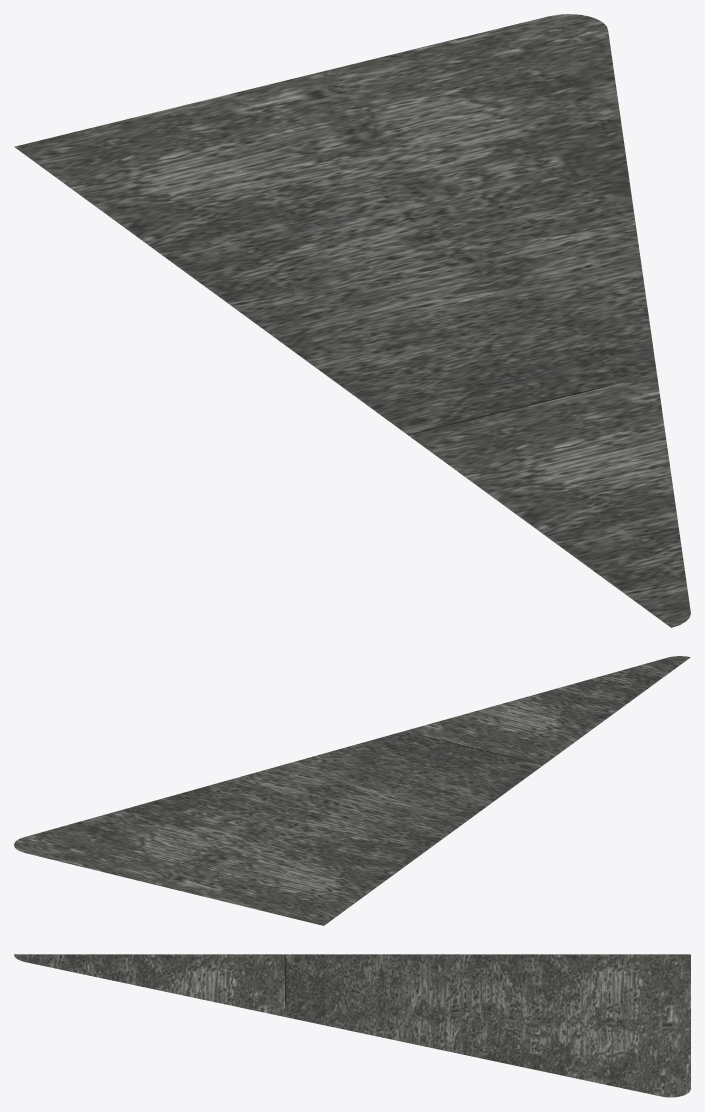
The model's file is half_triangle_bronze.fbx.
3 renders of one model, top to bottom at view 1: azimuth 30°, elevation 25°; view 2: azimuth 150°, elevation 25°; view 3: azimuth 270°, elevation 25°, orthographic. The views are drawn at different scales.
Parts seen in each view (by area): view 1: Model; view 2: Model; view 3: Model.
Part boxes in pixels (x1,y1,x2,y2): Model: [14, 14, 690, 627]; Model: [14, 656, 690, 925]; Model: [14, 954, 690, 1097].
Bounding box in the file's own units: 2.42 × 0 × 4.85.
